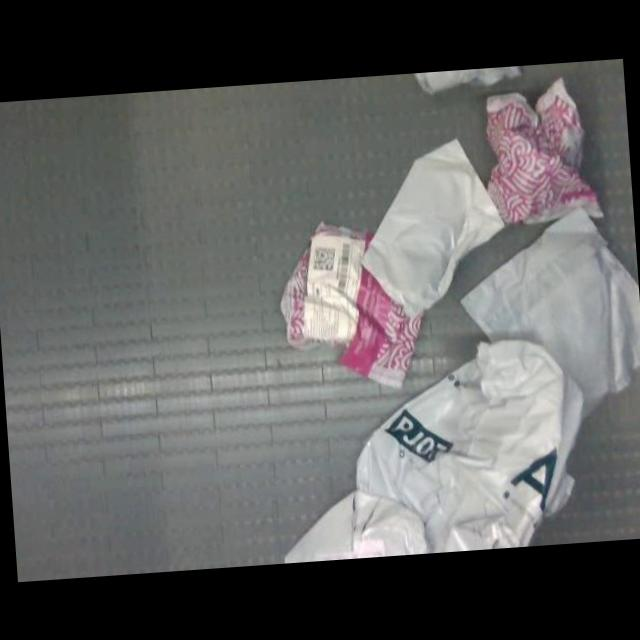mailer: (460, 211, 640, 416), (362, 139, 503, 317), (281, 224, 421, 387), (485, 79, 600, 222), (283, 490, 426, 563)
